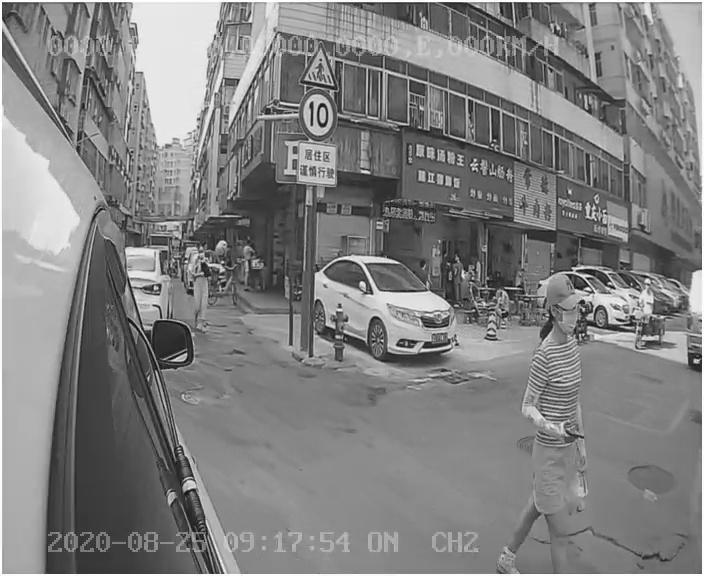person: (499, 276, 613, 568)
